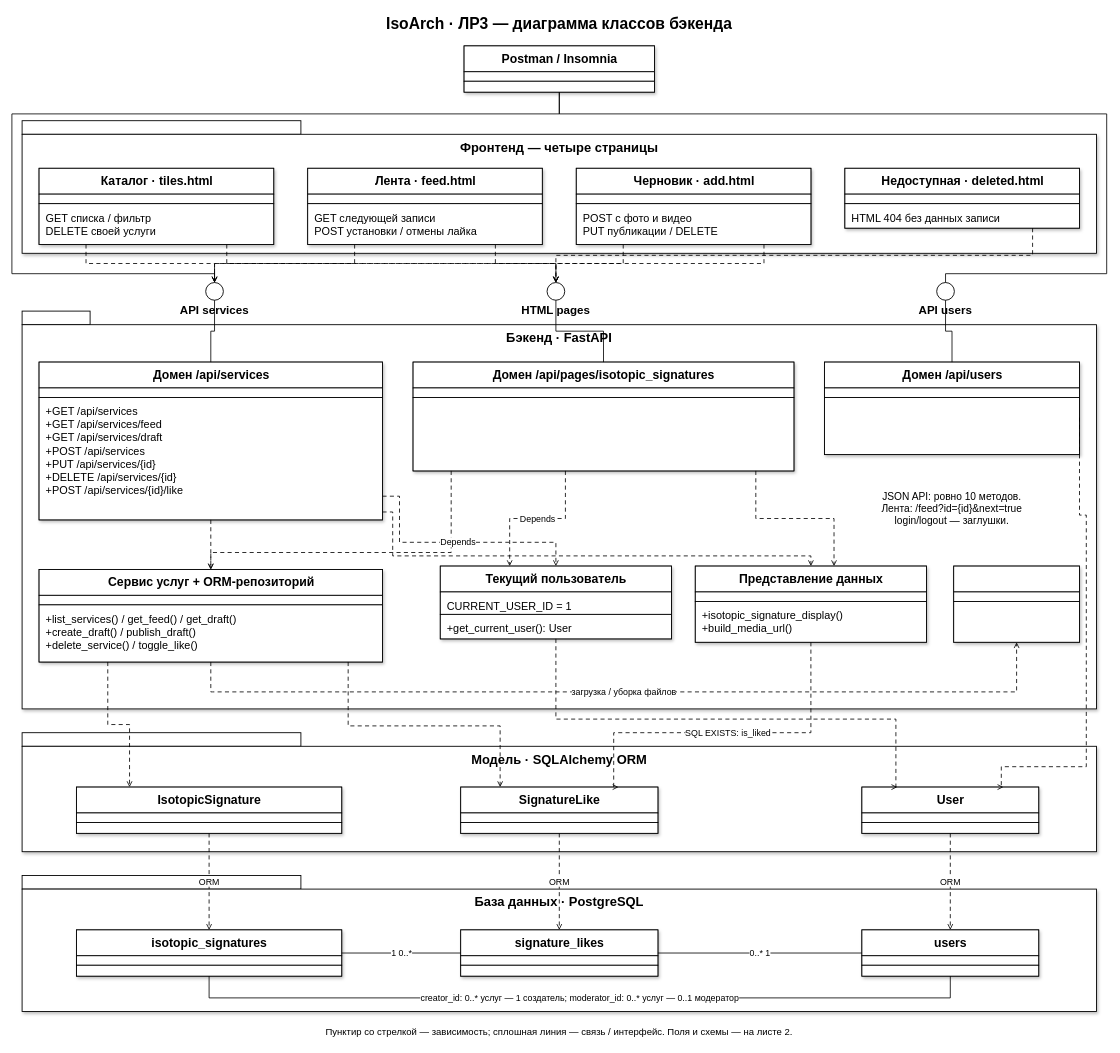
This 1120x1053 diagram has some shape labels left out. The centre of each missing label's shape, as x and y in pixels:
+GET /list +GET /feed/{isotopic_signature_id} +GET /draft +GET /unavailable: (603,434)
+POST /api/users/register +POST /api/users/login +POST /api/users/logout: (952,426)
MinIO: (1016,578)
Фото / видео Имена UUID: (1016,621)
